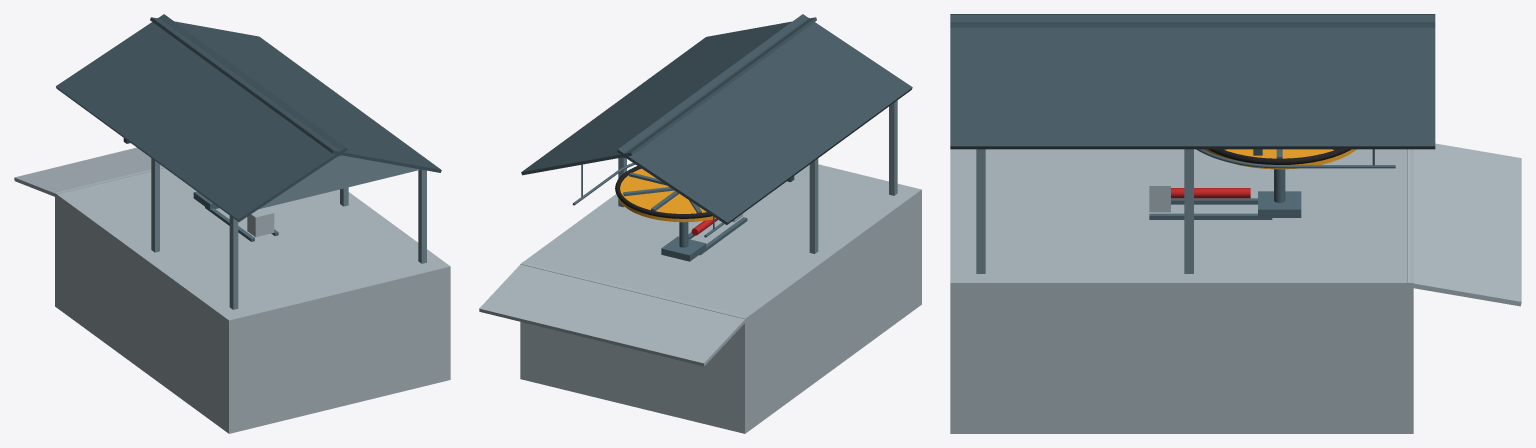
The model's file is top-station.glb.
The picture shows the model from 3 angles, left to right: view 1: azimuth 30°, elevation 25°; view 2: azimuth 150°, elevation 25°; view 3: azimuth 270°, elevation 25°; orthographic projection. The views are drawn at different scales.
Parts seen in each view (by area): view 1: Deck, Roof (×2), Ramp, Gable, RoofPost (×3), Anchor, Ridge; view 2: Deck, Roof (×2), Ramp, Rim, RoofPost (×2), Liner, Carriage, Ridge; view 3: Deck, Roof (×2), Ramp, RoofPost (×2), CarriageRail (×2), Rim, Carriage, Ridge, Liner, Anchor, HydraulicRam.
Boxes of the visible parts, x1=… form: Deck: x1=55, y1=166, x2=450, y2=433; Roof (×2): x1=56, y1=14, x2=441, y2=221; Ramp: x1=14, y1=147, x2=164, y2=196; Gable: x1=259, y1=155, x2=420, y2=208; RoofPost (×3): x1=151, y1=158, x2=426, y2=309; Anchor: x1=247, y1=207, x2=274, y2=237; Ridge: x1=157, y1=18, x2=341, y2=156; Deck: x1=520, y1=164, x2=921, y2=433; Roof (×2): x1=521, y1=14, x2=912, y2=224; Ramp: x1=479, y1=262, x2=747, y2=366; Rim: x1=618, y1=168, x2=716, y2=222; RoofPost (×2): x1=809, y1=100, x2=897, y2=253; Liner: x1=615, y1=166, x2=712, y2=218; Carriage: x1=661, y1=236, x2=706, y2=261; Ridge: x1=623, y1=18, x2=809, y2=158; Deck: x1=950, y1=149, x2=1413, y2=433; Roof (×2): x1=950, y1=14, x2=1435, y2=149; Ramp: x1=1407, y1=143, x2=1521, y2=306; RoofPost (×2): x1=976, y1=149, x2=1193, y2=273; CarriageRail (×2): x1=1149, y1=198, x2=1272, y2=219; Rim: x1=1203, y1=149, x2=1356, y2=169; Carriage: x1=1258, y1=191, x2=1301, y2=217; Ridge: x1=950, y1=21, x2=1435, y2=22; Liner: x1=1208, y1=149, x2=1350, y2=164; Anchor: x1=1149, y1=174, x2=1170, y2=212; HydraulicRam: x1=1171, y1=188, x2=1250, y2=198.
Bounding box in the file's own units: 9.4 × 10.45 × 15.79.
